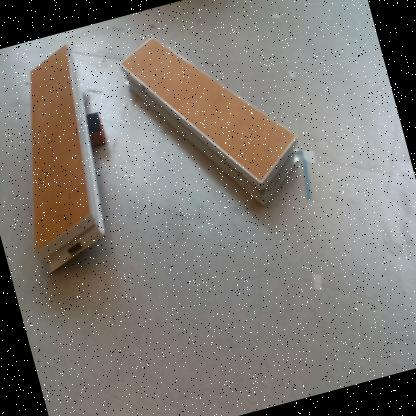Stairs: (121, 36, 302, 207), (30, 47, 105, 278)
